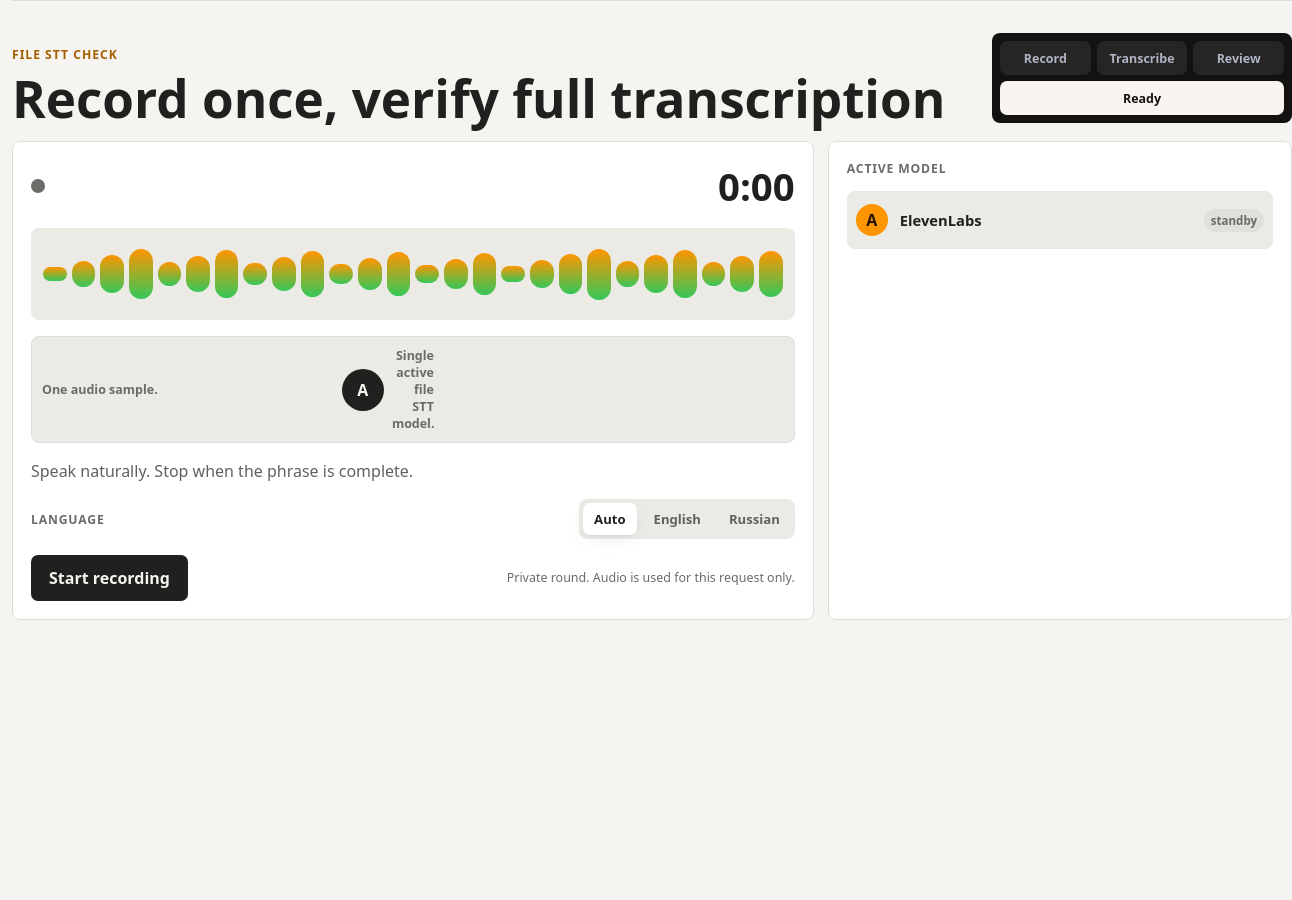
Test: DictationBenchmarkArena › changes the request language when a language option is picked
This screenshot has width=1292, height=900.
# Covers the language button onClick handler (setLanguage).
Click the button "Russian": (754, 519) [718,503,791,535]
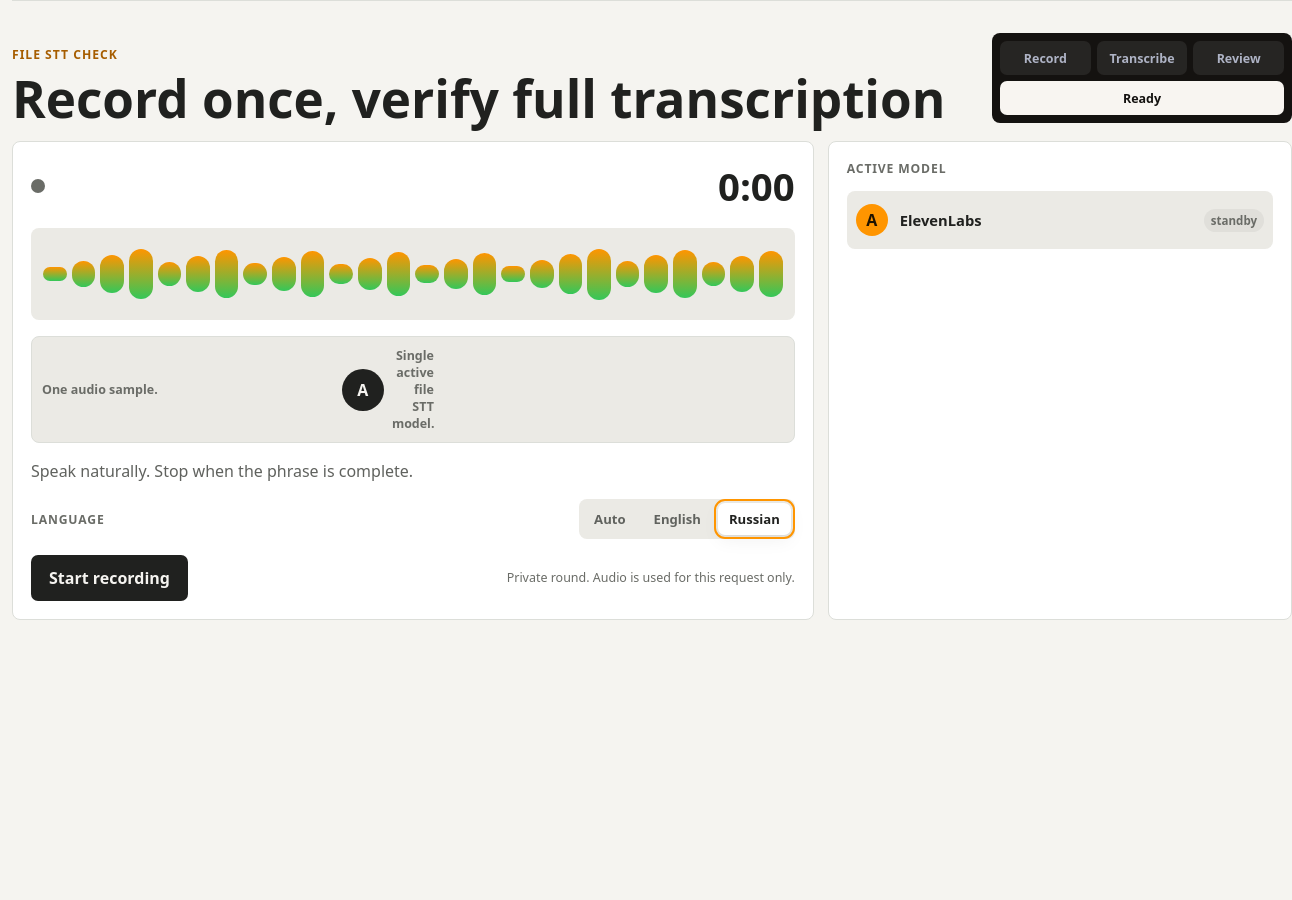
Click the button "Start recording": (109, 578) [31,555,188,601]
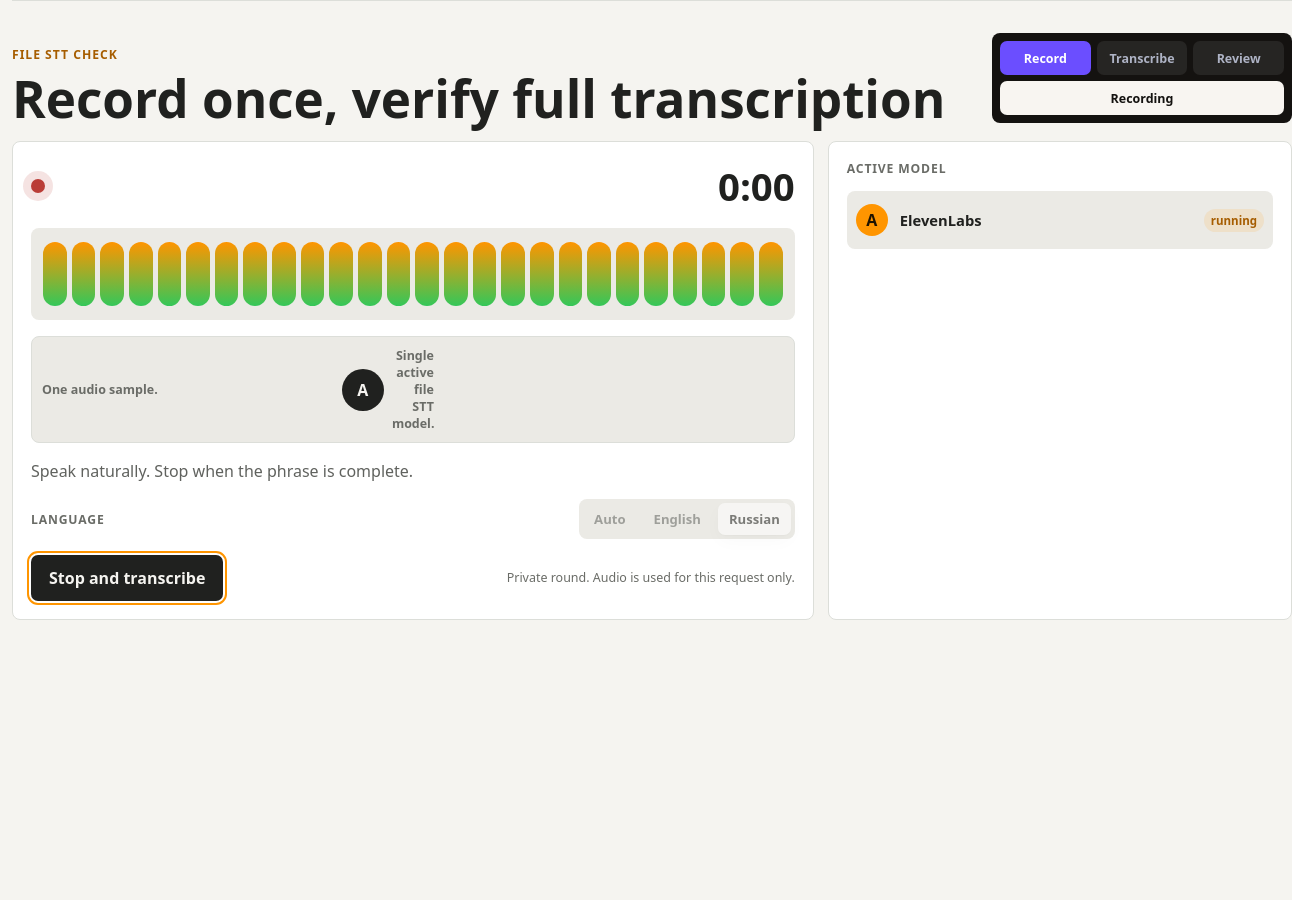
Click the button "Stop and transcribe": (127, 578) [31,555,223,601]
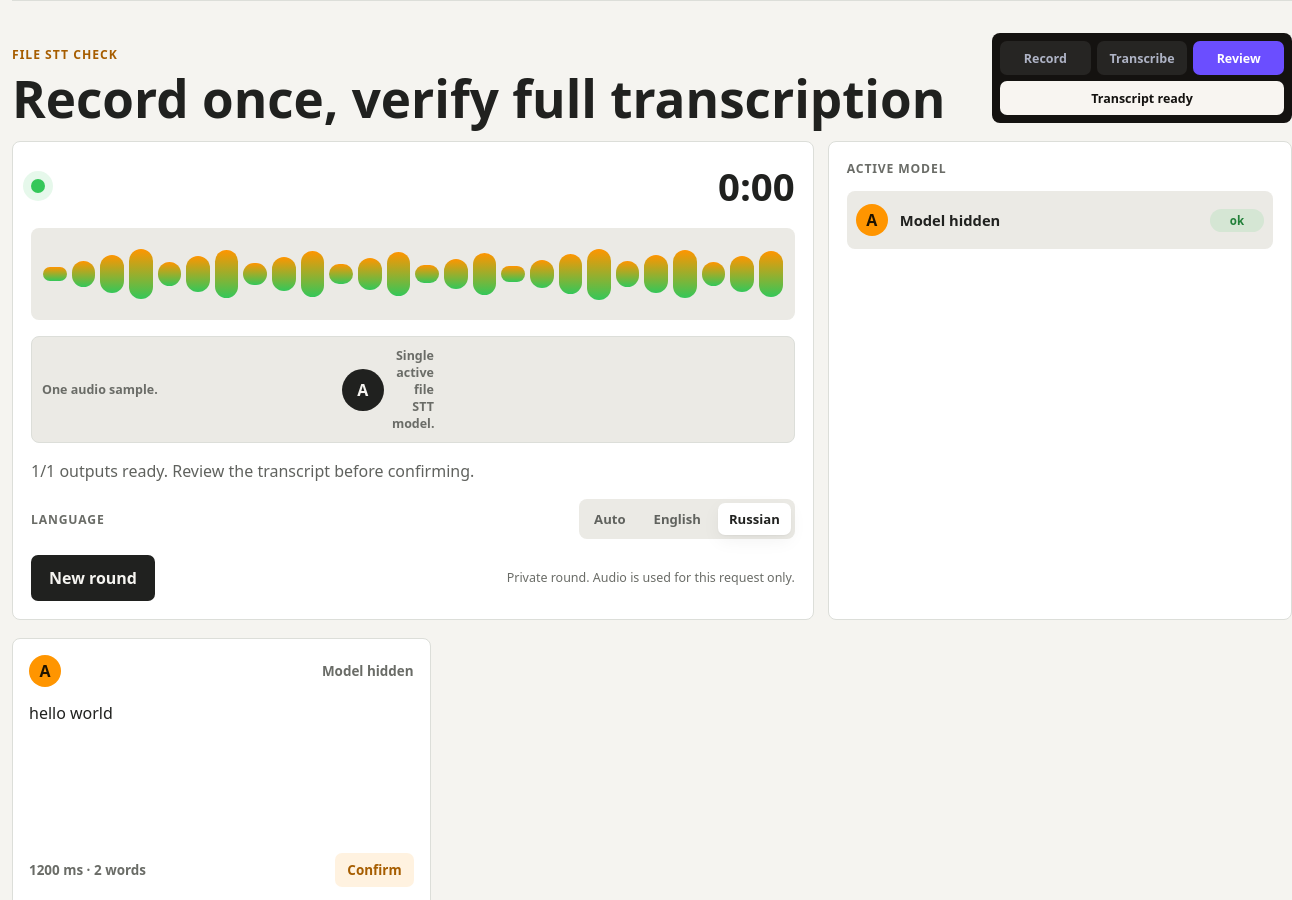
Expected: the text "hello world" is shown, [29,702,113,724]
